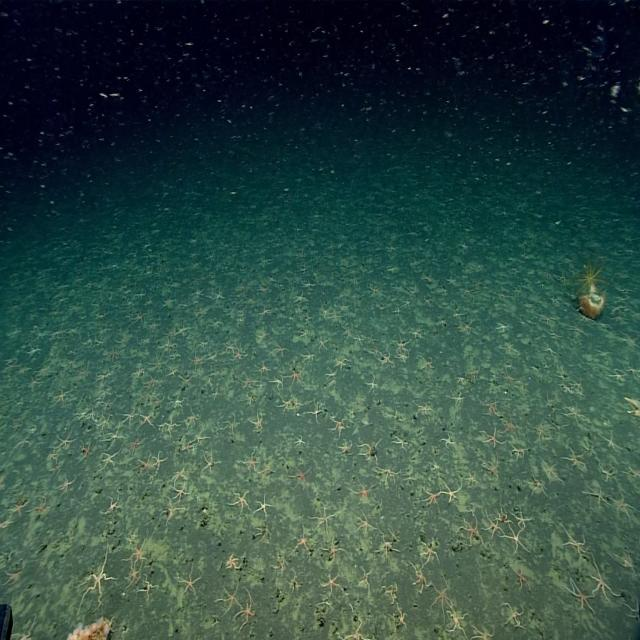brittle-stars: (82, 547, 113, 603), (591, 561, 615, 601), (562, 529, 588, 563), (568, 580, 594, 613), (459, 516, 483, 548), (312, 506, 336, 536), (446, 606, 468, 638), (238, 592, 257, 629), (432, 583, 452, 617), (178, 566, 200, 596), (585, 482, 609, 509), (128, 536, 150, 565), (294, 524, 313, 557), (410, 561, 430, 592), (506, 525, 528, 553), (220, 584, 242, 612), (351, 480, 374, 506), (504, 601, 525, 629), (614, 492, 636, 518), (341, 621, 370, 640), (357, 440, 379, 464), (320, 572, 342, 596), (374, 534, 394, 560), (323, 536, 343, 562), (564, 447, 586, 470), (289, 463, 310, 487), (230, 490, 251, 514), (421, 540, 440, 566), (543, 460, 562, 486), (482, 425, 503, 448), (527, 474, 547, 498), (355, 512, 374, 537), (514, 566, 532, 592), (564, 404, 585, 426), (162, 502, 183, 524), (442, 481, 462, 504), (502, 414, 520, 439), (485, 512, 503, 537), (140, 576, 158, 601), (481, 516, 499, 541), (377, 465, 399, 485), (104, 424, 124, 446), (126, 562, 144, 586), (600, 433, 620, 454), (8, 498, 29, 518), (254, 495, 272, 518), (513, 508, 531, 531), (104, 493, 122, 515), (29, 496, 47, 518), (422, 486, 440, 507), (222, 414, 239, 436), (202, 450, 219, 472), (58, 476, 77, 495), (101, 450, 119, 470), (58, 430, 76, 450), (227, 551, 244, 572), (484, 457, 500, 479), (474, 624, 496, 640), (172, 483, 190, 502), (393, 604, 406, 629), (54, 387, 72, 405), (394, 433, 412, 451), (482, 398, 500, 416), (128, 436, 145, 455), (533, 420, 547, 443), (248, 412, 264, 432), (306, 404, 322, 424), (332, 415, 348, 435), (287, 368, 303, 388), (260, 460, 276, 480), (184, 408, 199, 429), (162, 418, 179, 436), (440, 432, 456, 451), (79, 441, 93, 462), (393, 337, 410, 354), (240, 374, 257, 391), (509, 442, 526, 459), (138, 412, 154, 430), (123, 408, 138, 427), (170, 392, 186, 409), (173, 466, 188, 484), (244, 454, 258, 473), (417, 403, 433, 419), (338, 439, 353, 456), (138, 455, 152, 473), (364, 372, 376, 393), (273, 342, 288, 358), (500, 340, 516, 355), (278, 397, 293, 413), (152, 453, 166, 470), (254, 328, 268, 345), (420, 355, 434, 372), (96, 413, 109, 431), (627, 361, 640, 379), (301, 348, 316, 363), (175, 321, 190, 336), (451, 390, 465, 406), (190, 352, 204, 368), (271, 376, 285, 392), (161, 340, 177, 354), (317, 335, 330, 352), (465, 468, 477, 486), (336, 355, 350, 370), (379, 351, 393, 366), (256, 360, 270, 375), (292, 290, 306, 304), (181, 441, 194, 456), (394, 351, 409, 364), (502, 371, 515, 386), (163, 294, 176, 308), (222, 341, 235, 355), (301, 278, 314, 292), (234, 347, 246, 362), (293, 436, 305, 450), (496, 321, 510, 333)
